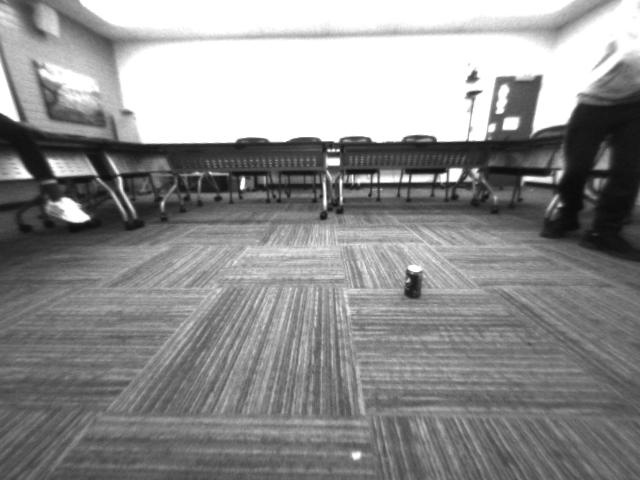can: (401, 262, 425, 301)
